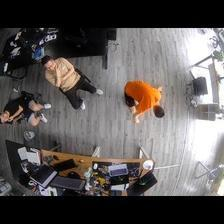normal: (41, 56, 104, 109), (122, 80, 167, 125), (1, 97, 53, 126)
